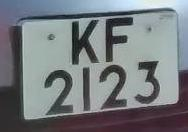1: (76, 62, 97, 115)
2: (34, 64, 81, 119), (96, 60, 130, 113)
3: (130, 56, 167, 108)
F: (100, 13, 136, 63)
K: (62, 15, 108, 70)
